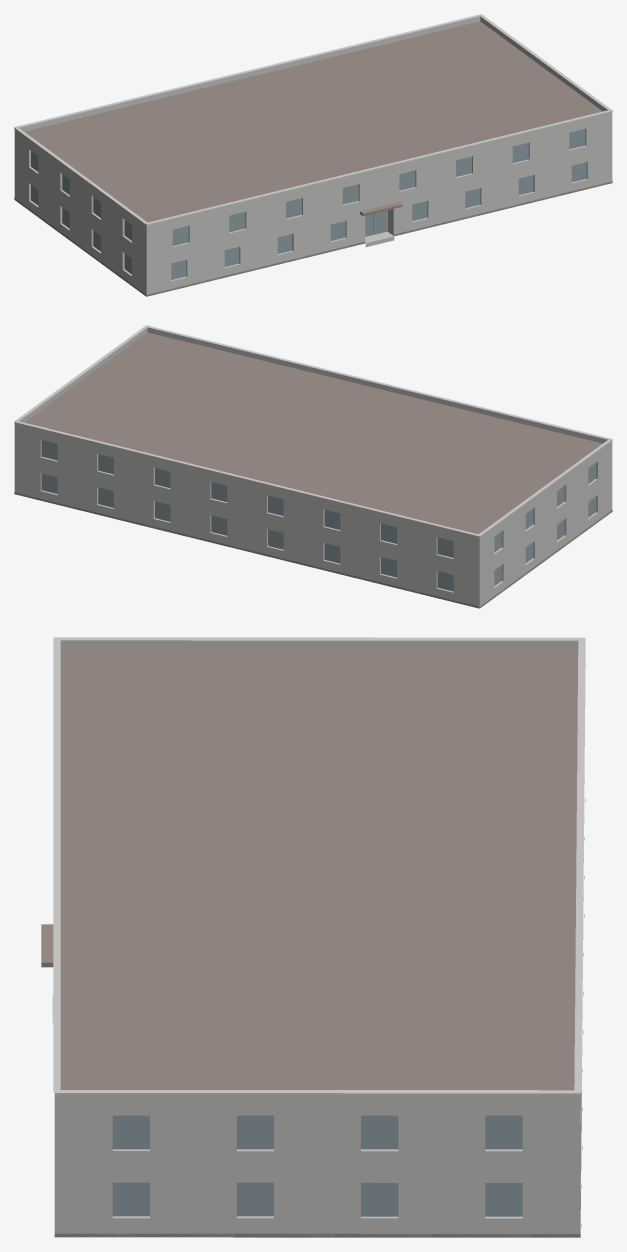
3 renders of one model, top to bottom at view 1: azimuth 30°, elevation 25°; view 2: azimuth 150°, elevation 25°; view 3: azimuth 270°, elevation 25°, orthographic. The views are drawn at different scales.
Parts seen in each view (by area): view 1: osm639992765__roof, osm639992765__wall, osm639992765__parapet, osm639992765__glass, osm639992765__trim, osm639992765__base; view 2: osm639992765__roof, osm639992765__wall, osm639992765__parapet, osm639992765__glass, osm639992765__trim, osm639992765__base; view 3: osm639992765__roof, osm639992765__wall, osm639992765__trim, osm639992765__glass, osm639992765__parapet, osm639992765__base.
Part boxes in pixels (bbox=[...]): osm639992765__roof: bbox=[24, 21, 602, 222]; osm639992765__wall: bbox=[14, 116, 612, 296]; osm639992765__parapet: bbox=[14, 16, 612, 229]; osm639992765__glass: bbox=[31, 129, 586, 279]; osm639992765__trim: bbox=[14, 14, 612, 225]; osm639992765__base: bbox=[14, 181, 612, 296]; osm639992765__roof: bbox=[24, 332, 602, 534]; osm639992765__wall: bbox=[14, 427, 612, 608]; osm639992765__parapet: bbox=[14, 327, 612, 541]; osm639992765__glass: bbox=[41, 440, 595, 591]; osm639992765__trim: bbox=[14, 325, 612, 536]; osm639992765__base: bbox=[14, 492, 612, 608]; osm639992765__roof: bbox=[60, 650, 578, 1237]; osm639992765__wall: bbox=[54, 1092, 581, 1233]; osm639992765__trim: bbox=[53, 637, 585, 1095]; osm639992765__glass: bbox=[112, 1115, 522, 1216]; osm639992765__parapet: bbox=[54, 640, 580, 1102]; osm639992765__base: bbox=[54, 798, 585, 1237].
Size of the model in its own units: 52.43 by 8.15 by 26.46.
Materials: 10 (1 with a texture image).
